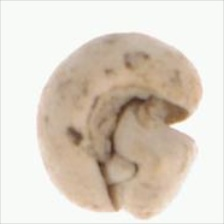L3: (94, 96, 198, 219)
L4: (37, 32, 204, 218)
